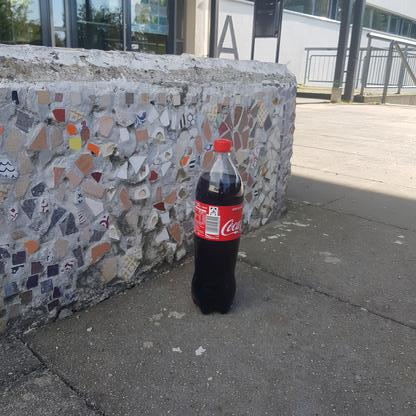coca-cola: (191, 137, 246, 319)
